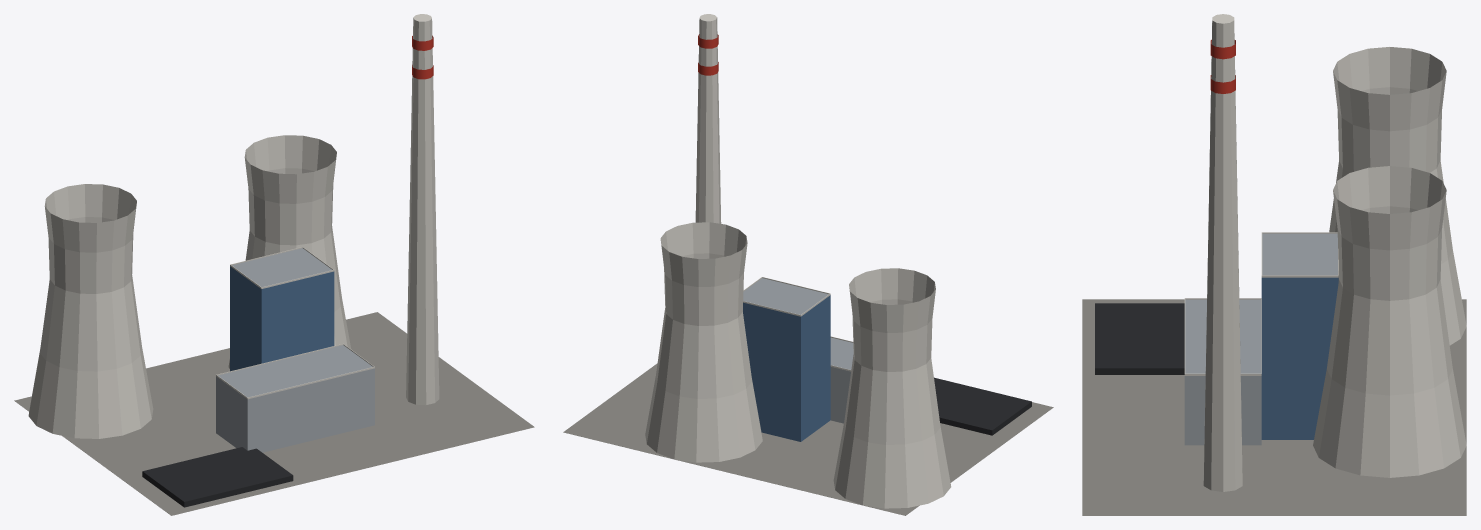
File: centrale_charbon.glb
3 views of the same model, side by side, from view 1: azimuth 30°, elevation 25°; view 2: azimuth 150°, elevation 25°; view 3: azimuth 270°, elevation 25° (orthographic). The views are drawn at different scales.
Visible parts, largest first — view 1: centrale_charbon; view 2: centrale_charbon; view 3: centrale_charbon.
Part boxes in pixels (x1=…): centrale_charbon: x1=14, y1=14, x2=534, y2=515; centrale_charbon: x1=563, y1=14, x2=1053, y2=515; centrale_charbon: x1=1082, y1=14, x2=1466, y2=515.
Bounding box in the file's own units: 205 × 200 × 150.
Materials: 1 (1 with a texture image).
